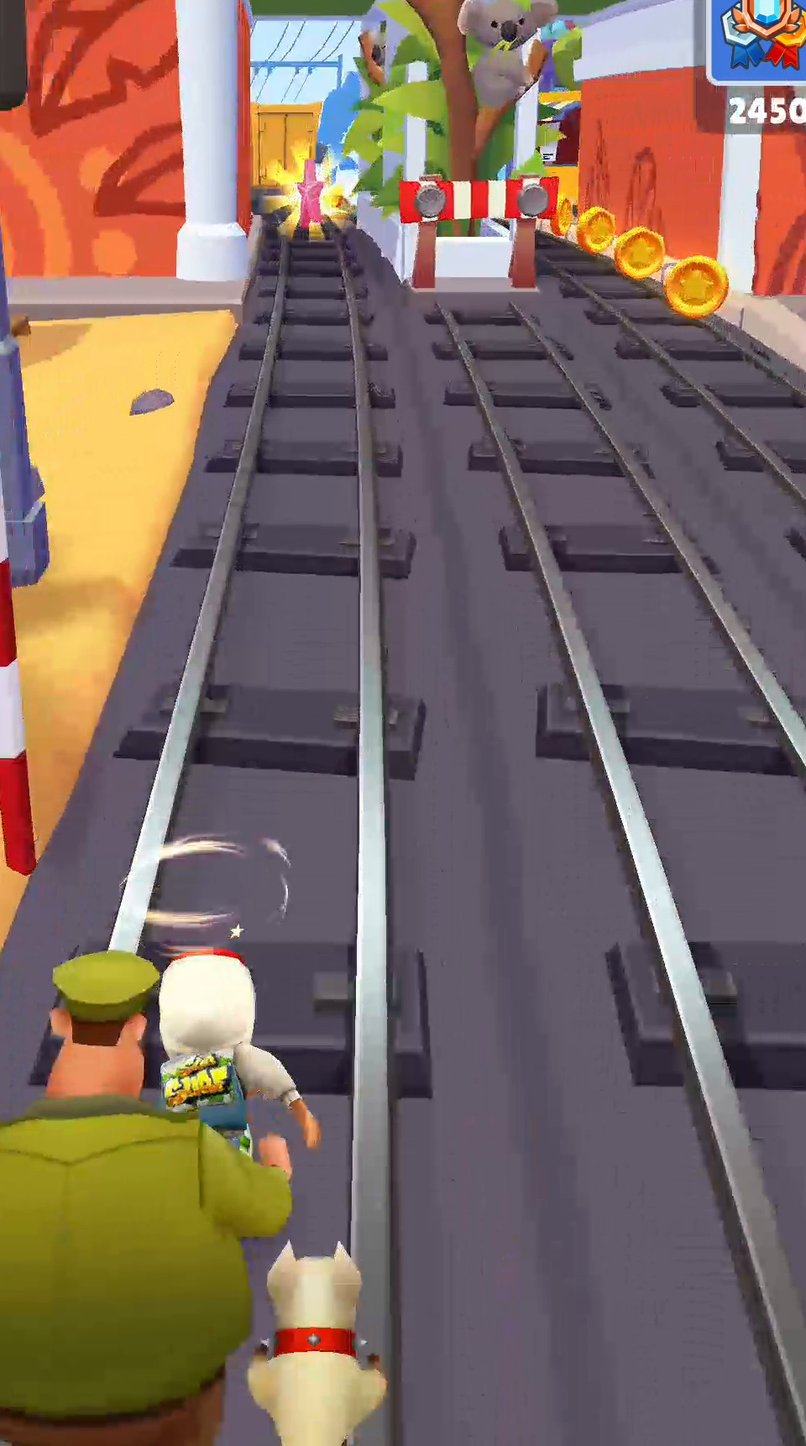block pillar: (342, 0, 557, 289)
train: (252, 102, 321, 188), (253, 102, 321, 188)
